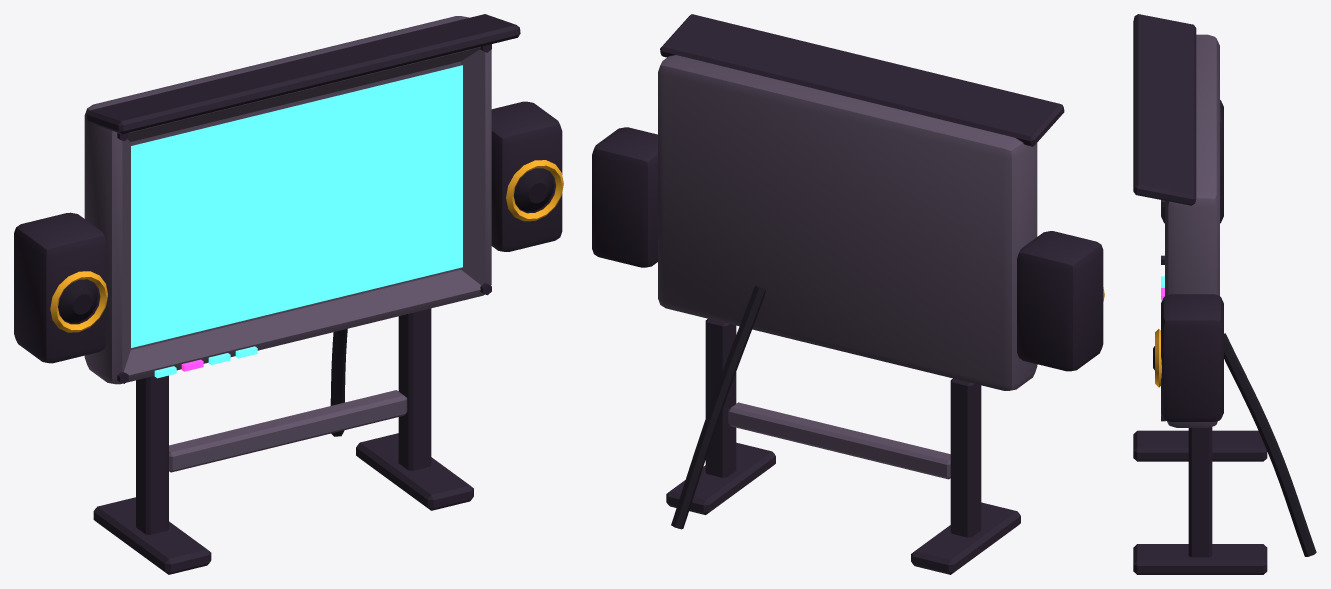
File: wave_screen.glb
The picture shows the model from 3 angles, left to right: view 1: azimuth 30°, elevation 25°; view 2: azimuth 150°, elevation 25°; view 3: azimuth 270°, elevation 25°; orthographic projection. The views are drawn at different scales.
Parts seen in each view (by area): view 1: Body, Screen; view 2: Body; view 3: Body.
Boxes of the visible parts, x1=… form: Body: x1=14, y1=14, x2=563, y2=574; Screen: x1=131, y1=65, x2=462, y2=347; Body: x1=592, y1=14, x2=1104, y2=574; Body: x1=1133, y1=14, x2=1316, y2=574.
Bounding box in the file's own units: 1.35 × 1.15 × 0.465.
